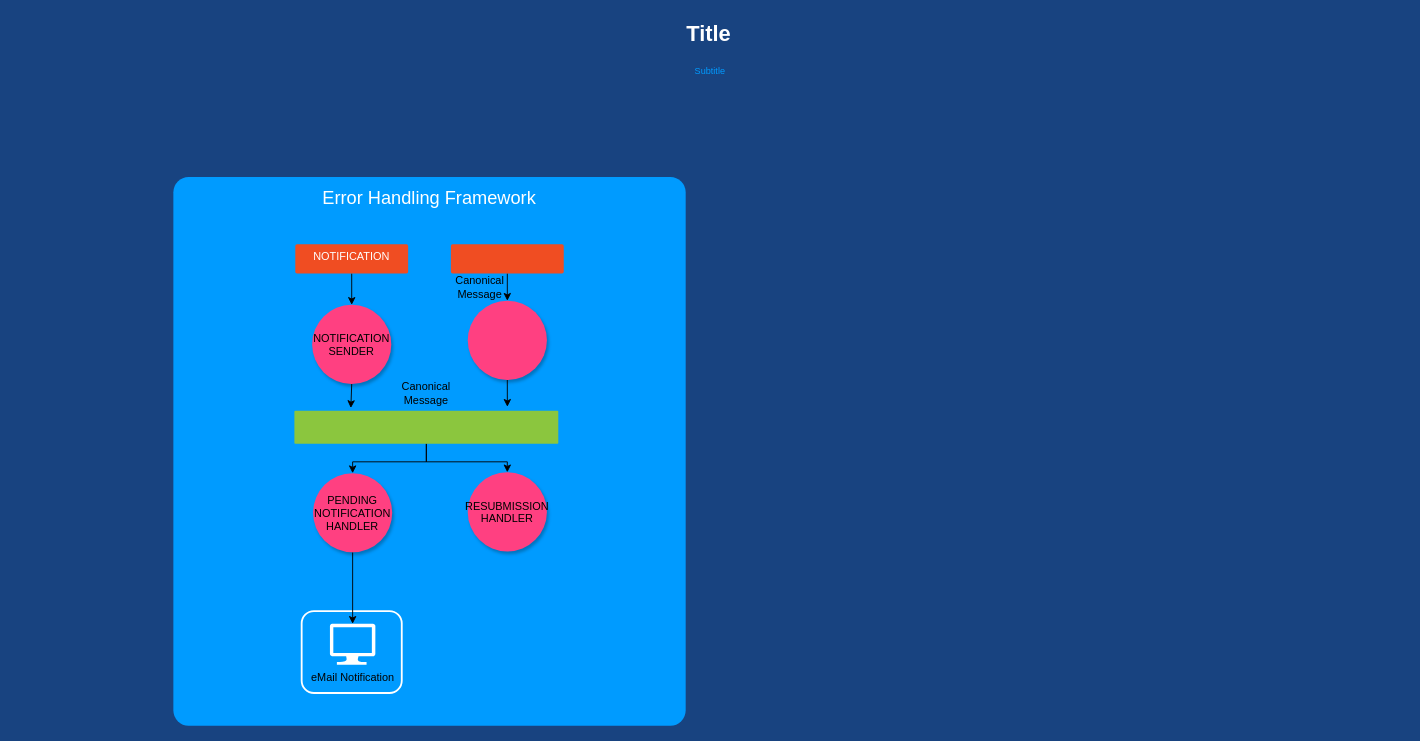
This 1420x741 diagram has some shape labels left out. Each missing label, with the centre of its shape:
"EVENT" goes at (x=506, y=258).
"EVENT PUBLISHER" goes at (x=508, y=341).
"MESSAGE COLLECTOR" goes at (x=426, y=426).
